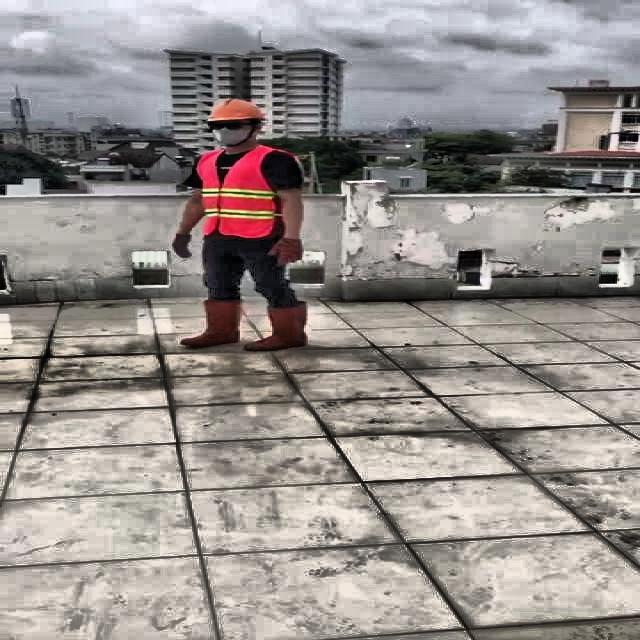safety_helmet: (203, 99, 266, 122)
safety_jacket: (197, 151, 279, 238)
